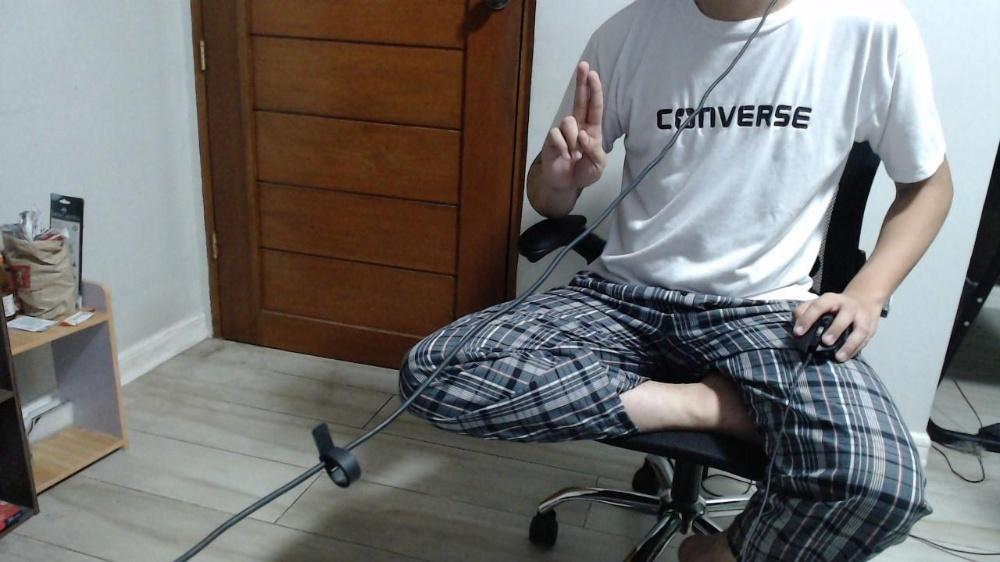u: (542, 59, 603, 188)
